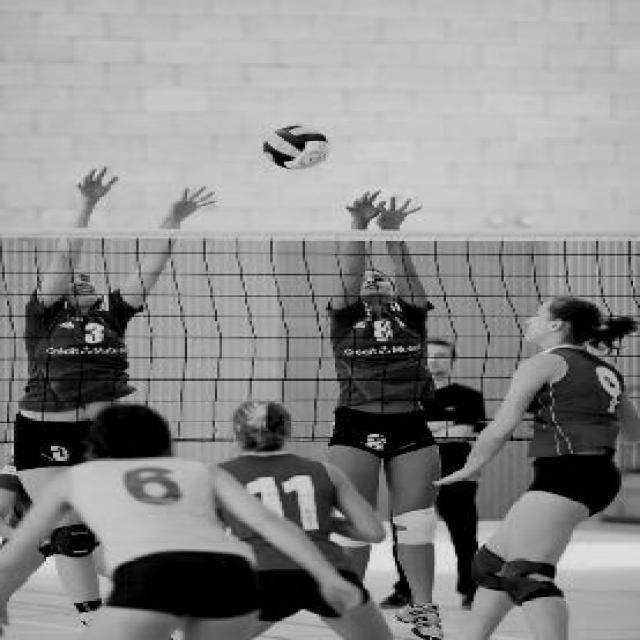volleyball: (263, 124, 330, 170)
